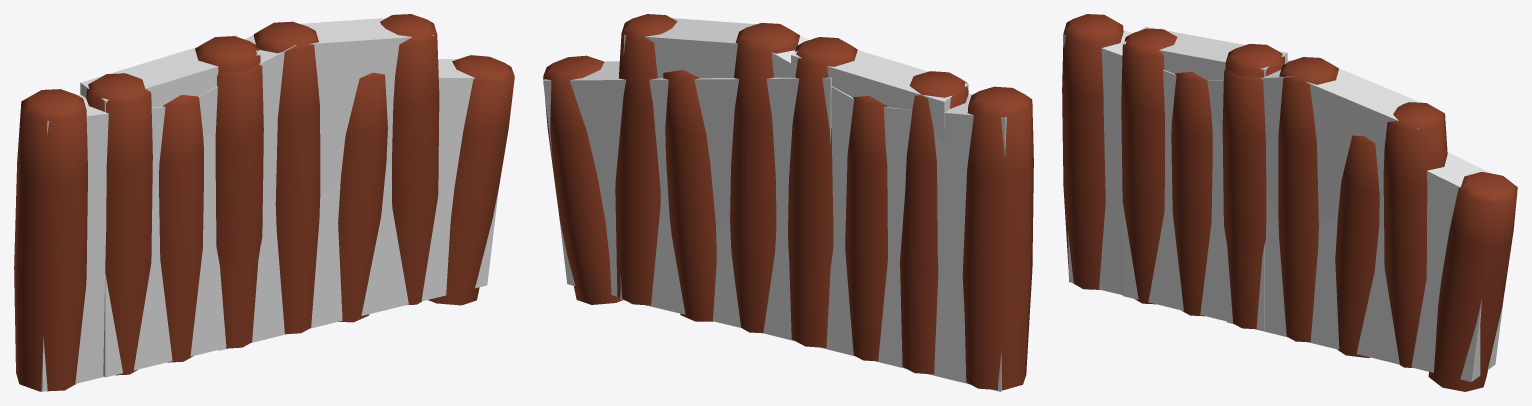
Rendered from chLogWall.fbx.
The picture shows the model from 3 angles, left to right: view 1: azimuth 30°, elevation 25°; view 2: azimuth 150°, elevation 25°; view 3: azimuth 330°, elevation 25°; orthographic projection. The views are drawn at different scales.
Visible parts, largest first — view 1: Fence_TreeLong, Fence_TreeEnd, PHYLong, Fence_TreeShort, PHYEnd, PHYShort; view 2: Fence_TreeLong, PHYLong, Fence_TreeEnd, Fence_TreeShort, PHYEnd, PHYShort; view 3: Fence_TreeLong, Fence_TreeEnd, PHYLong, Fence_TreeShort, PHYEnd, PHYShort.
Part boxes in pixels (x1,y1,x2,y2): Fence_TreeLong: (14,14,439,391); Fence_TreeEnd: (215,55,514,322); PHYLong: (41,18,433,391); Fence_TreeShort: (86,36,260,375); PHYEnd: (218,59,498,350); PHYShort: (80,35,260,377); Fence_TreeLong: (615,14,1033,390); PHYLong: (620,18,1026,391); Fence_TreeEnd: (543,55,830,347); Fence_TreeShort: (788,37,968,374); PHYEnd: (543,61,831,296); PHYShort: (791,37,968,142); Fence_TreeLong: (1062,14,1447,367); Fence_TreeEnd: (1222,69,1517,391); PHYLong: (1064,30,1442,294); Fence_TreeShort: (1121,28,1285,329); PHYEnd: (1226,151,1517,381); PHYShort: (1122,26,1287,330).
Size of the model in its own units: 0.3658 by 2.61 by 1.56.
